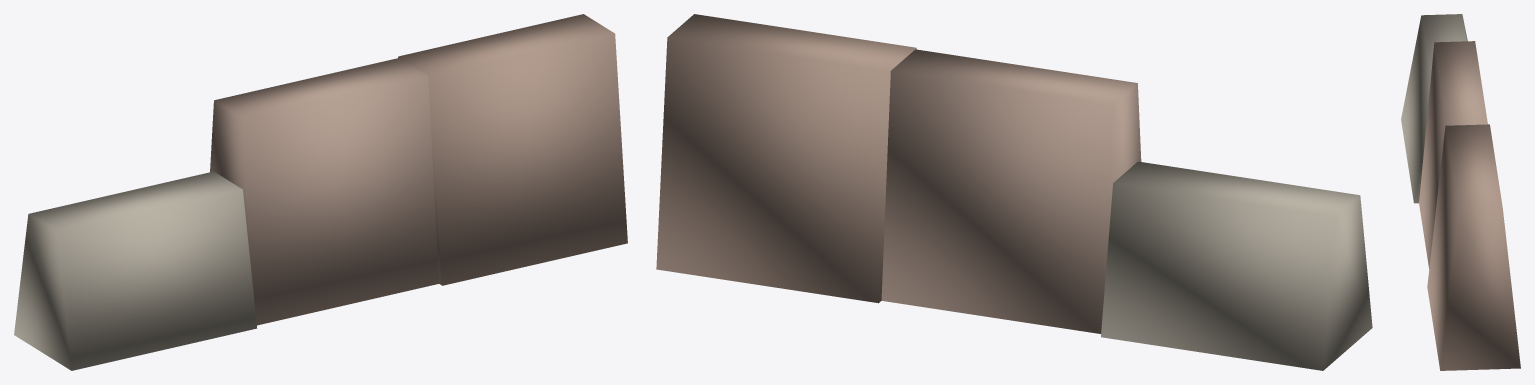
Rendered from farm_-2_5_collision.glb.
3 renders of one model, left to right at view 1: azimuth 30°, elevation 25°; view 2: azimuth 150°, elevation 25°; view 3: azimuth 270°, elevation 25°, orthographic. The views are drawn at different scales.
Parts seen in each view (by area): view 1: geometry_0; view 2: geometry_0; view 3: geometry_0.
Part boxes in pixels (x1,y1,x2,y2): geometry_0: (14, 14, 627, 370); geometry_0: (656, 14, 1372, 370); geometry_0: (1401, 14, 1520, 370).
Size of the model in its own units: 4.66 by 1.69 by 1.03.
